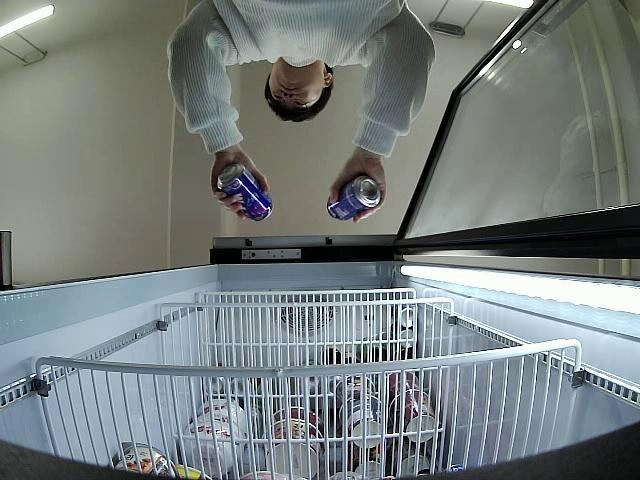14_welchsGrape: (217, 164, 274, 222), (326, 177, 382, 220)
